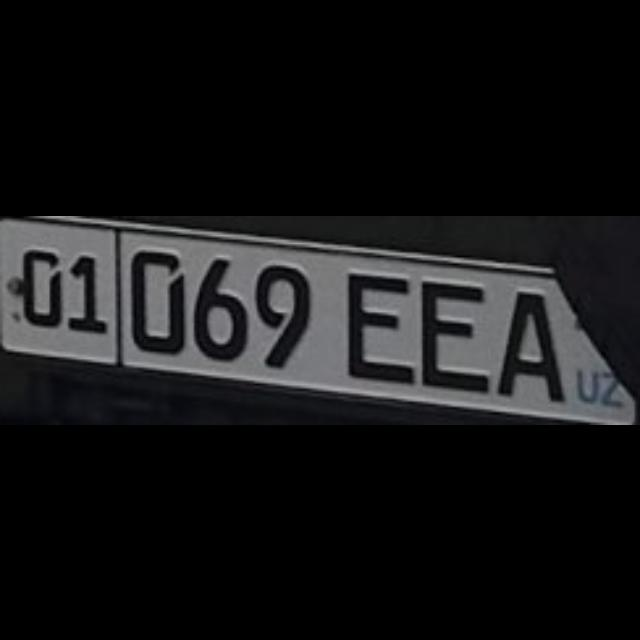0: (126, 246, 180, 352), (18, 247, 58, 326)
1: (63, 252, 105, 331)
6: (192, 254, 244, 360)
9: (252, 259, 310, 367)
A: (496, 288, 564, 402)
E: (417, 276, 485, 390), (344, 270, 412, 382)
